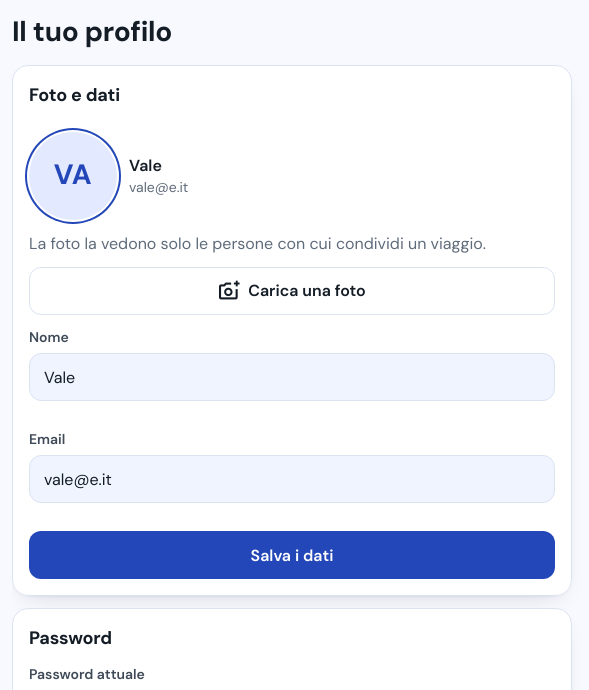
Scenario: email già usata: errore sul campo
Replace the text in the field labelled "Email" with "marco@e.it" at (292, 480), box 29,456 -> 555,504
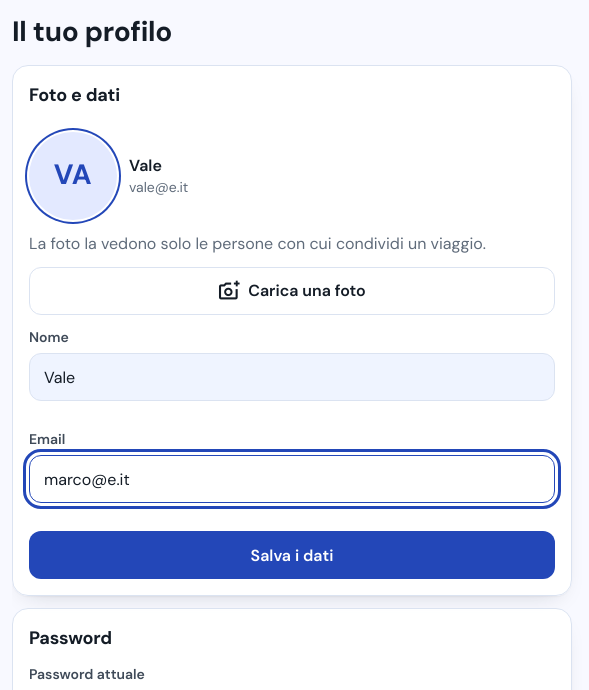
Click the button "Salva i dati" at (292, 556), box 29,532 -> 555,580
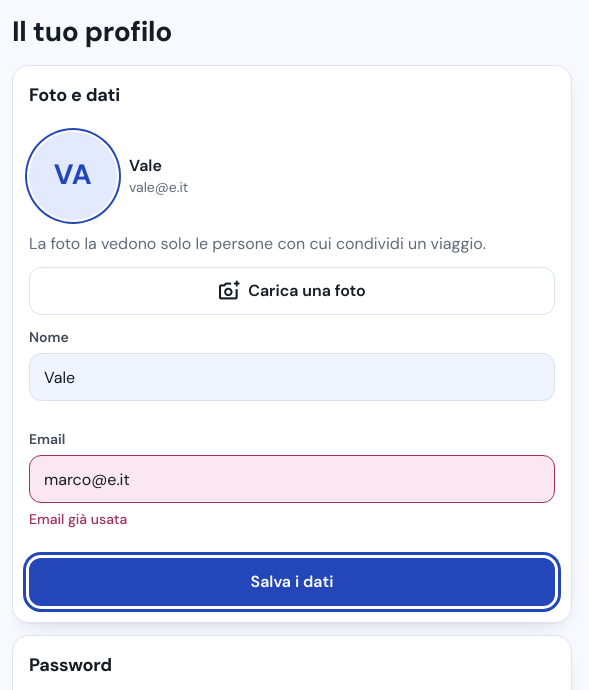
Expected: the text "Email già usata" is shown, 29,510 -> 127,528
